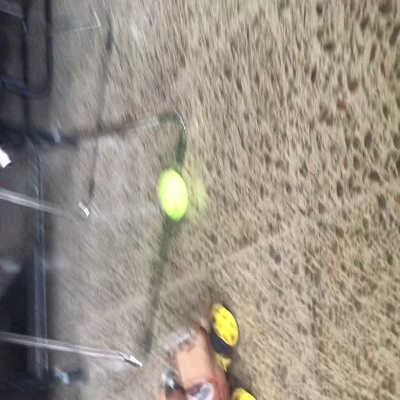Ball: (158, 170, 187, 220)
Robot: (155, 304, 257, 399)
